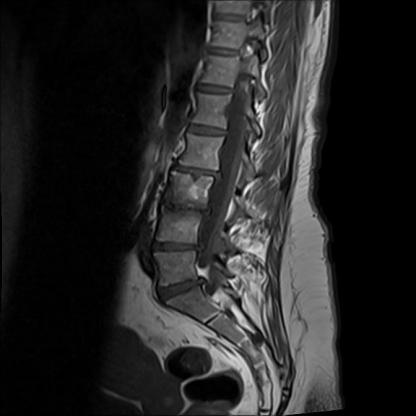Degenerative Disc Diseaserotation: (160, 278, 205, 301), (173, 162, 217, 183), (164, 201, 208, 218)
Disc Herniationrotation: (175, 161, 220, 183), (164, 199, 206, 216), (157, 238, 196, 256)
